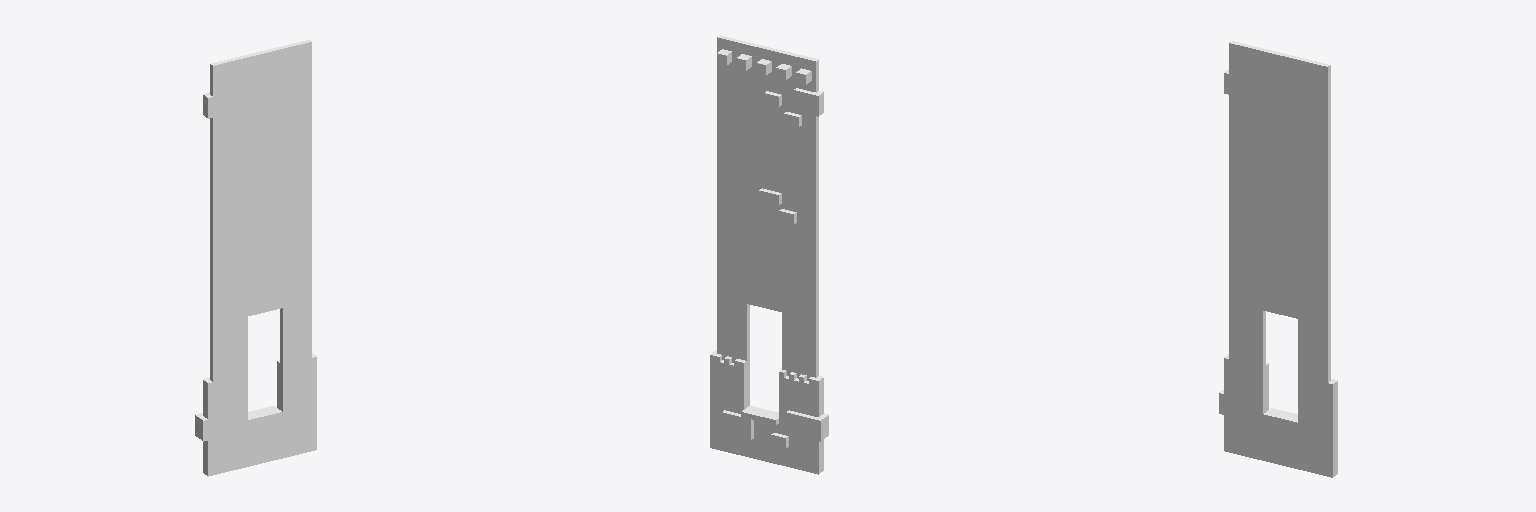
The model's file is TallBuilding03-2.obj.
The picture shows the model from 3 angles: view 1: azimuth 30°, elevation 25°; view 2: azimuth 150°, elevation 25°; view 3: azimuth 330°, elevation 25°; orthographic projection.
Visible parts, largest first — view 1: object 1; view 2: object 1; view 3: object 1.
Part boxes in pixels (x1,y1,x2,y2): object 1: (195,40,316,476); object 1: (710,35,828,474); object 1: (1219,41,1337,477).
Bounding box in the file's own units: 2.3 × 7.9 × 0.3.